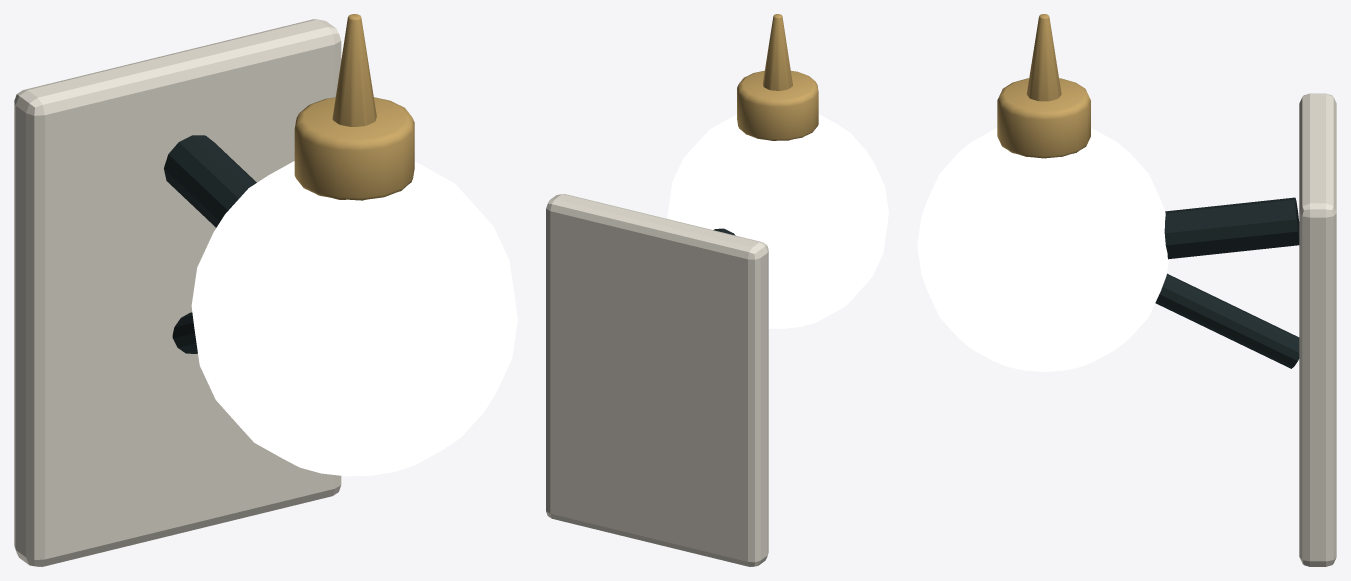
The model's file is garden_light_wall_03.glb.
3 renders of one model, left to right at view 1: azimuth 30°, elevation 25°; view 2: azimuth 150°, elevation 25°; view 3: azimuth 270°, elevation 25°, orthographic. The views are drawn at different scales.
Visible parts, largest first — view 1: Tint, Glass globe, Globe cap, Lamp arm, Globe finial, Arm brace; view 2: Tint, Glass globe, Globe cap, Globe finial; view 3: Glass globe, Tint, Lamp arm, Globe cap, Arm brace, Globe finial.
Part boxes in pixels (x1,y1,x2,y2): Tint: (14,19,341,566); Glass globe: (191,161,517,476); Globe cap: (294,97,414,200); Lamp arm: (164,135,256,227); Globe finial: (332,14,376,126); Arm brace: (172,312,197,353); Tint: (546,194,768,566); Glass globe: (667,114,888,328); Globe cap: (737,70,818,140); Globe finial: (762,14,792,90); Glass globe: (917,128,1168,371); Tint: (1299,93,1336,566); Lamp arm: (1164,197,1299,259); Globe cap: (997,78,1090,158); Arm brace: (1155,273,1299,368); Globe finial: (1027,14,1061,101).
Size of the model in its own units: 0.21 by 0.41 by 0.314.
